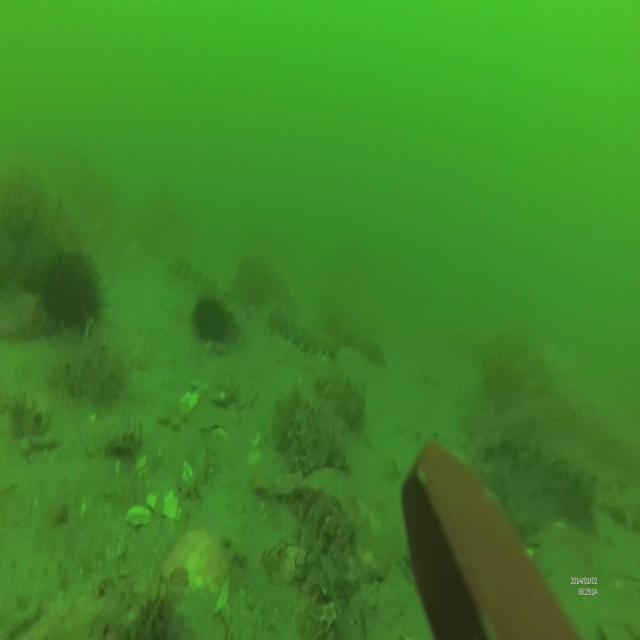echinus: (42, 249, 106, 326), (192, 296, 234, 342)
holothurian: (264, 302, 336, 366)
